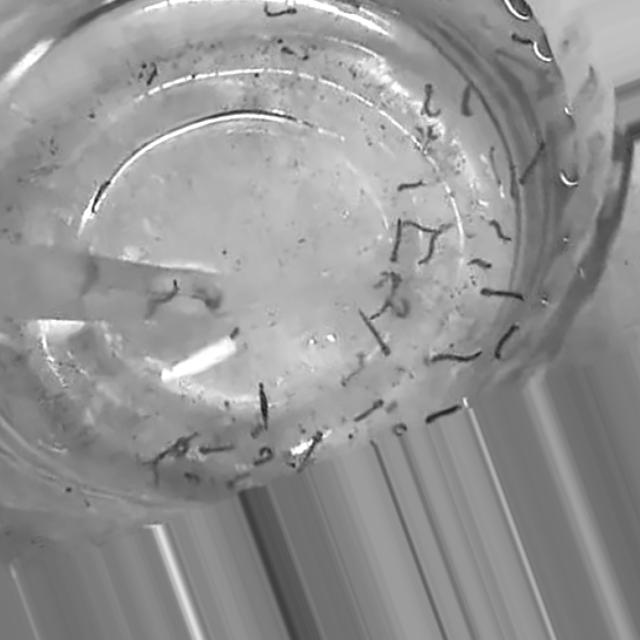larvas: (358, 307, 395, 360), (371, 270, 403, 326), (141, 448, 177, 486), (297, 428, 324, 470), (418, 226, 446, 265), (520, 143, 547, 182), (496, 321, 518, 359), (92, 176, 112, 214), (154, 279, 182, 306), (356, 398, 384, 425), (341, 353, 362, 388), (426, 404, 459, 426), (482, 286, 524, 302), (278, 36, 306, 59), (420, 86, 440, 117), (487, 149, 502, 187), (434, 350, 480, 362), (258, 380, 270, 424), (460, 86, 475, 120), (402, 218, 437, 232), (506, 155, 517, 199), (263, 4, 297, 18), (493, 219, 512, 243), (256, 444, 273, 468), (171, 438, 189, 459), (144, 63, 160, 86), (226, 470, 250, 485), (390, 301, 410, 317), (200, 445, 233, 454), (393, 416, 407, 436), (394, 220, 401, 258), (469, 256, 491, 268), (512, 32, 532, 45), (399, 183, 423, 193)
